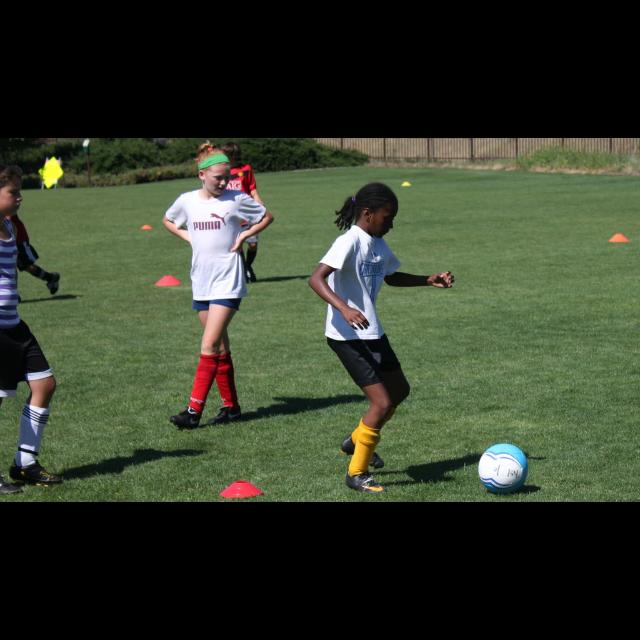Football: (477, 441, 525, 491)
